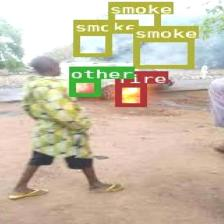fire: (114, 83, 146, 106)
smoke: (133, 38, 192, 68), (106, 1, 158, 32), (72, 32, 110, 56)
